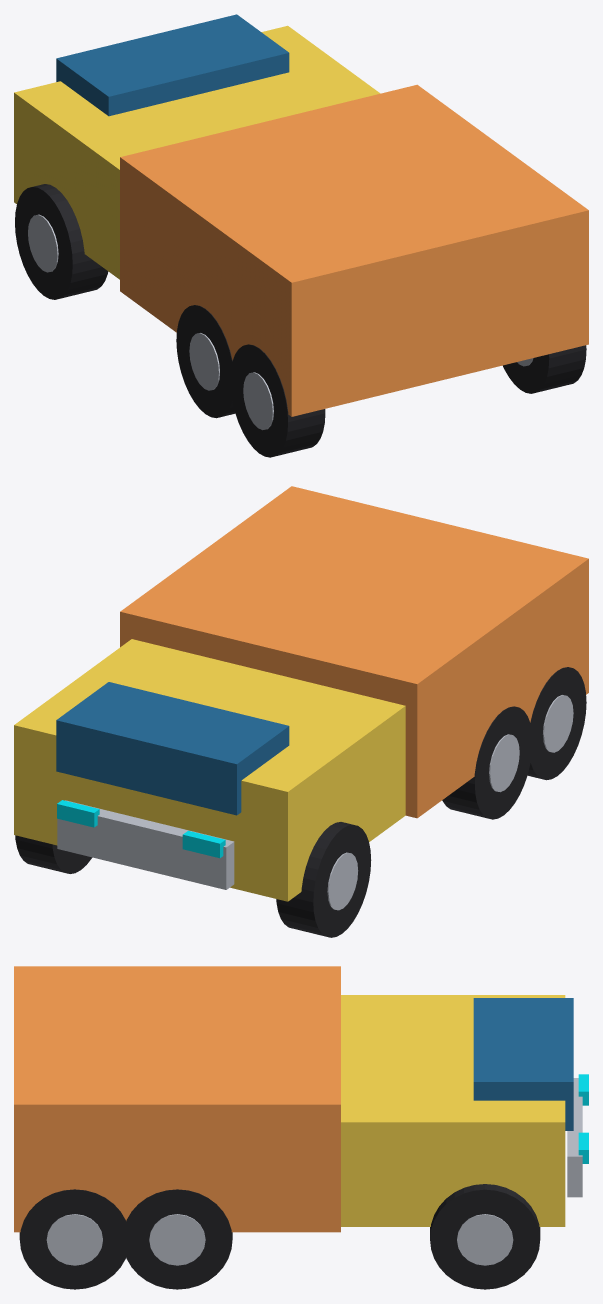
File: traffic_truck.glb
3 renders of one model, top to bottom at view 1: azimuth 30°, elevation 25°; view 2: azimuth 150°, elevation 25°; view 3: azimuth 270°, elevation 25°, orthographic. The views are drawn at different scales.
Visible parts, largest first — view 1: truck_cargo, truck_cab, truck_glass, wheel_-1.12_-1.55, wheel_-1.12_1.65, wheel_-1.12_0.85, wheel_1.12_1.65, rim_-1.12_1.65, rim_-1.12_-1.55, rim_-1.12_0.85; view 2: truck_cargo, truck_cab, truck_glass, truck_grille, wheel_-1.12_-1.55, wheel_-1.12_0.85, wheel_-1.12_1.65, wheel_1.12_-1.55, rim_-1.12_0.85, rim_-1.12_-1.55, rim_-1.12_1.65, truck_head_l (+1 smaller); view 3: truck_cargo, truck_cab, truck_glass, wheel_1.12_-1.55, wheel_1.12_0.85, wheel_1.12_1.65, rim_1.12_-1.55, rim_1.12_1.65, rim_1.12_0.85, truck_grille.
Boxes of the visible parts, <box> form: truck_cargo: <box>120,84,588,416</box>; truck_cab: <box>14,25,380,279</box>; truck_glass: <box>56,14,289,116</box>; wheel_-1.12_-1.55: <box>15,184,108,299</box>; wheel_-1.12_1.65: <box>230,344,325,457</box>; wheel_-1.12_0.85: <box>176,305,235,418</box>; wheel_1.12_1.65: <box>503,345,586,393</box>; rim_-1.12_1.65: <box>243,372,273,430</box>; rim_-1.12_-1.55: <box>28,214,58,272</box>; rim_-1.12_0.85: <box>189,333,219,390</box>; truck_cargo: <box>120,486,588,818</box>; truck_cab: <box>14,639,405,901</box>; truck_glass: <box>56,682,289,815</box>; truck_grille: <box>57,800,234,889</box>; wheel_-1.12_-1.55: <box>276,822,371,937</box>; wheel_-1.12_0.85: <box>442,706,532,819</box>; wheel_-1.12_1.65: <box>527,667,586,780</box>; wheel_1.12_-1.55: <box>15,835,92,873</box>; rim_-1.12_0.85: <box>489,734,519,792</box>; rim_-1.12_-1.55: <box>327,852,358,910</box>; rim_-1.12_1.65: <box>543,695,573,752</box>; truck_head_l: <box>182,830,225,858</box>; truck_cargo: <box>14,966,340,1232</box>; truck_cab: <box>341,995,565,1226</box>; truck_glass: <box>473,998,573,1130</box>; wheel_1.12_-1.55: <box>430,1184,540,1289</box>; wheel_1.12_0.85: <box>122,1189,232,1289</box>; wheel_1.12_1.65: <box>19,1189,129,1289</box>; rim_1.12_-1.55: <box>457,1214,513,1265</box>; rim_1.12_1.65: <box>46,1214,102,1265</box>; rim_1.12_0.85: <box>149,1214,205,1265</box>; truck_grille: <box>567,1078,582,1197</box>.
Bounding box in the file's own units: 2.58 × 1.59 × 4.48.
